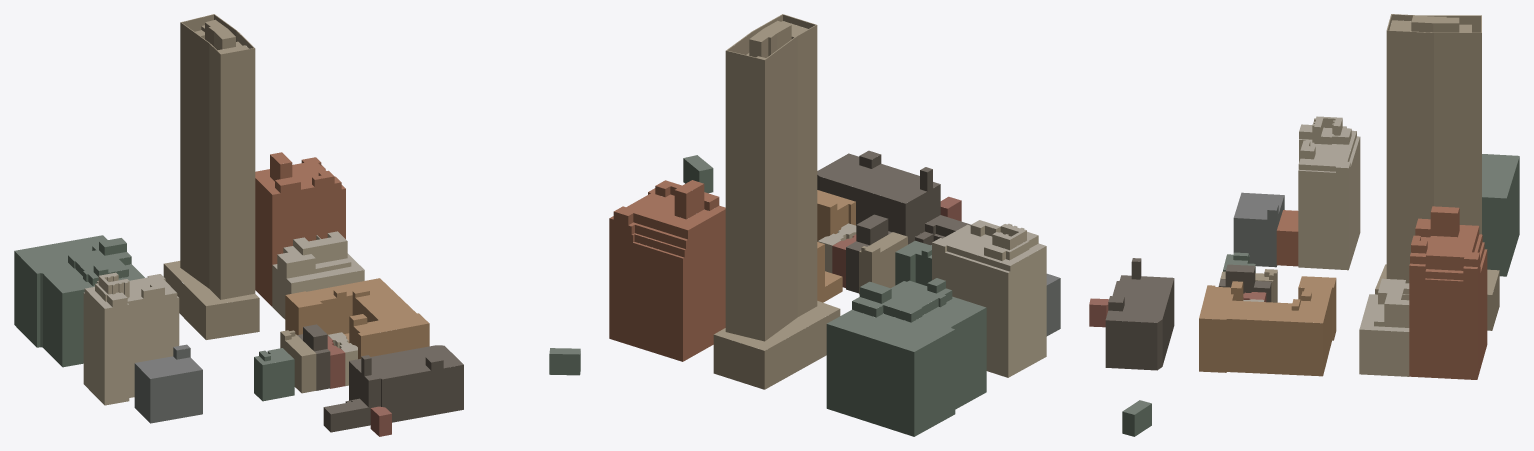
File: tile--4_3.glb
3 views of the same model, side by side, from view 1: azimuth 30°, elevation 25°; view 2: azimuth 150°, elevation 25°; view 3: azimuth 270°, elevation 25° (orthographic). The views are drawn at different scales.
Parts seen in each view (by area): view 1: wall, roof; view 2: wall, roof; view 3: wall, roof.
Part boxes in pixels (box(x1,y1,x2,y2)): wall: box(14, 14, 580, 436); roof: box(14, 14, 580, 415); wall: box(609, 15, 1060, 436); roof: box(610, 14, 1059, 351); wall: box(1089, 14, 1519, 436); roof: box(1089, 14, 1519, 414).
Bounding box in the file's own units: 216 × 150 × 192.
